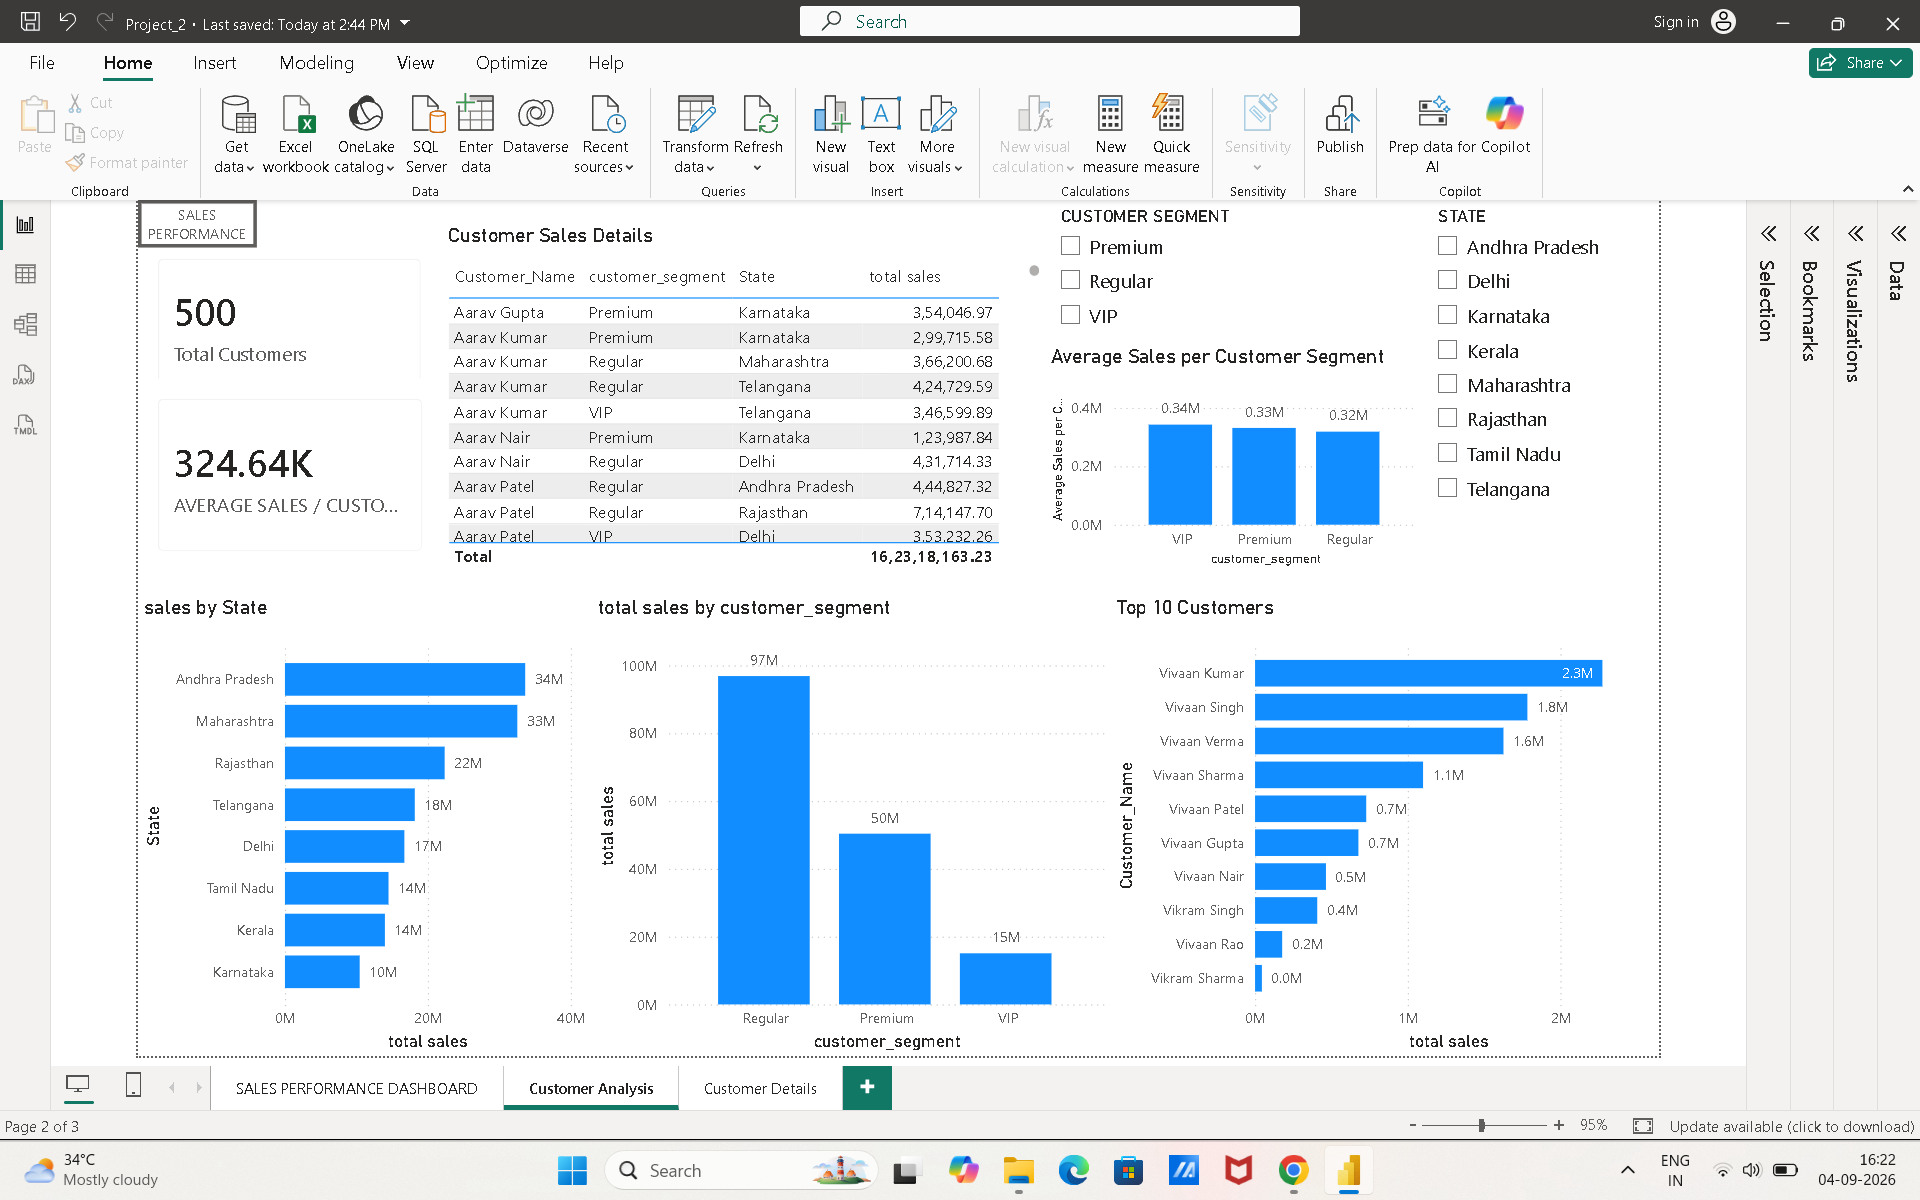

This screenshot's page, from the dashboard's own definition file:
{"tool":"powerbi","page":{"name":"Customer Analysis","canvas":[1280,720],"ordinal":1},"visuals":[{"type":"clusteredBarChart","title":"sales by State","fields":{"Y":["project2 fact_sales.total sales"],"Category":["project2 dim_customer.State"]},"box":[0,332.5,381.2,388.2],"z":0},{"type":"cardVisual","fields":{"Data":["project2 fact_sales.Total Customers"]},"box":[0,32.6,255.5,144],"z":1000},{"type":"clusteredColumnChart","fields":{"Y":["project2 fact_sales.total sales"],"Category":["project2 dim_customer.customer_segment"]},"box":[381.2,332.5,436.9,388.2],"z":2000},{"type":"clusteredBarChart","title":"Top 10 Customers","fields":{"Y":["project2 fact_sales.total sales"],"Category":["project2 dim_customer.Customer_Name"]},"box":[818.1,332.5,461.9,388.2],"z":3000},{"type":"tableEx","title":"Customer Sales Details","fields":{"Values":["project2 dim_customer.Customer_Name","project2 dim_customer.customer_segment","project2 dim_customer.State","project2 fact_sales.total sales"]},"box":[255.5,18.9,507.8,295],"z":4000},{"type":"slicer","fields":{"Values":["project2 dim_customer.customer_segment"]},"box":[763.8,0,317.2,121],"z":5000},{"type":"slicer","fields":{"Values":["project2 dim_customer.State"]},"box":[1081,0,199,313],"z":6000},{"type":"cardVisual","fields":{"Data":["project2 fact_sales.Average Sales per Customer"]},"box":[0,150.3,256,162.8],"z":7000},{"type":"clusteredColumnChart","title":"Average Sales per Customer Segment","fields":{"Y":["project2 fact_sales.Average Sales per Customer"],"Category":["project2 dim_customer.customer_segment"]},"box":[763.8,121,317.2,192],"z":8000},{"type":"actionButton","box":[0,0,100,40],"z":9000}]}

Visuals, with their boxes on the page's 1280x720 design canvas (x1, y1, x2, y2). These are canvas units, not pixel positions in the 1920x1200 screenshot, which may show the page scaled, cropped or inside an application window:
"sales by State" clusteredBarChart: Rect(0, 332, 381, 721)
cardVisual - project2 fact_sales.Total Customers: Rect(0, 33, 256, 177)
clusteredColumnChart - project2 fact_sales.total sales x project2 dim_customer.customer_segment: Rect(381, 332, 818, 721)
"Top 10 Customers" clusteredBarChart: Rect(818, 332, 1280, 721)
"Customer Sales Details" tableEx: Rect(256, 19, 763, 314)
slicer - project2 dim_customer.customer_segment: Rect(764, 0, 1081, 121)
slicer - project2 dim_customer.State: Rect(1081, 0, 1280, 313)
cardVisual - project2 fact_sales.Average Sales per Customer: Rect(0, 150, 256, 313)
"Average Sales per Customer Segment" clusteredColumnChart: Rect(764, 121, 1081, 313)
actionButton: Rect(0, 0, 100, 40)
